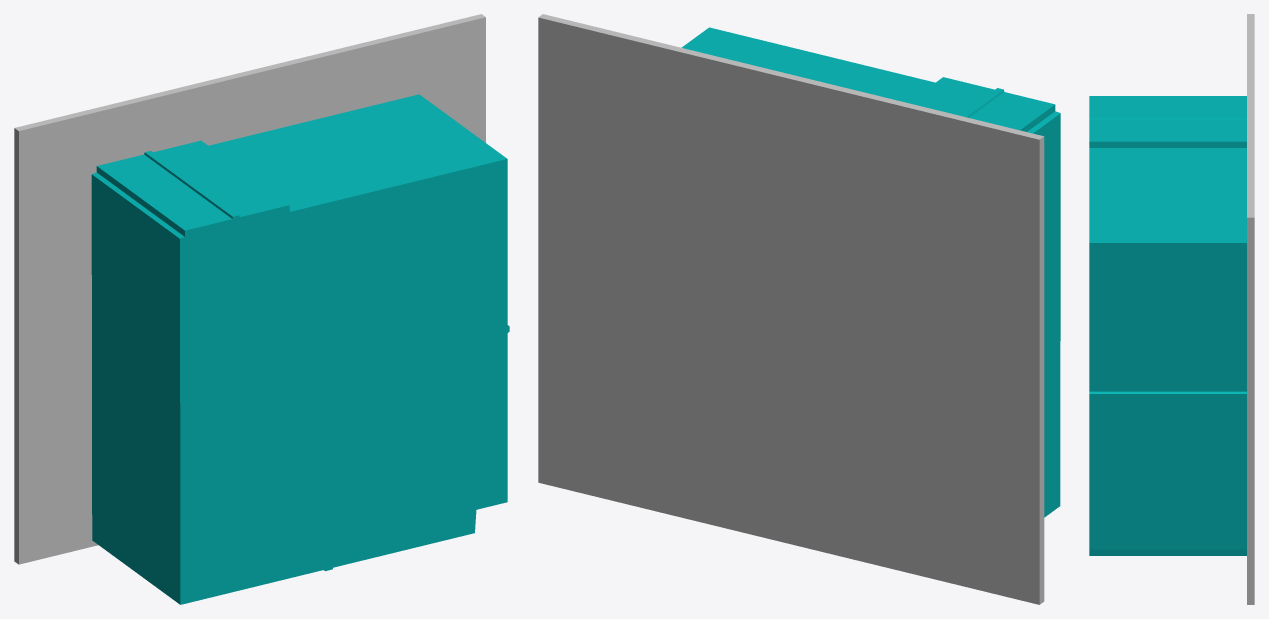
File: plan_home_B.glb
3 renders of one model, left to right at view 1: azimuth 30°, elevation 25°; view 2: azimuth 150°, elevation 25°; view 3: azimuth 270°, elevation 25°, orthographic. The views are drawn at different scales.
Parts seen in each view (by area): view 1: world; view 2: world; view 3: world.
Part boxes in pixels (x1=…): world: x1=14, y1=14, x2=509, y2=604; world: x1=538, y1=14, x2=1060, y2=604; world: x1=1089, y1=14, x2=1254, y2=604.
Bounding box in the file's own units: 9.17 × 8.13 × 3.15.
